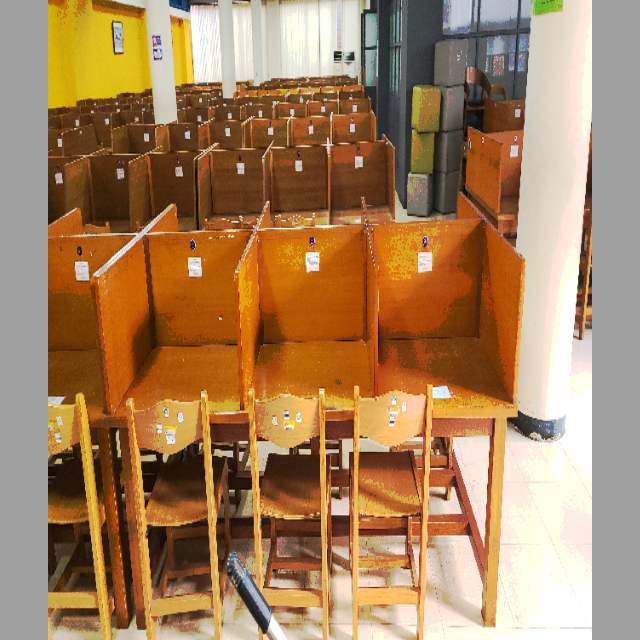empty: (380, 202, 523, 535), (101, 205, 246, 533), (248, 205, 377, 521)
